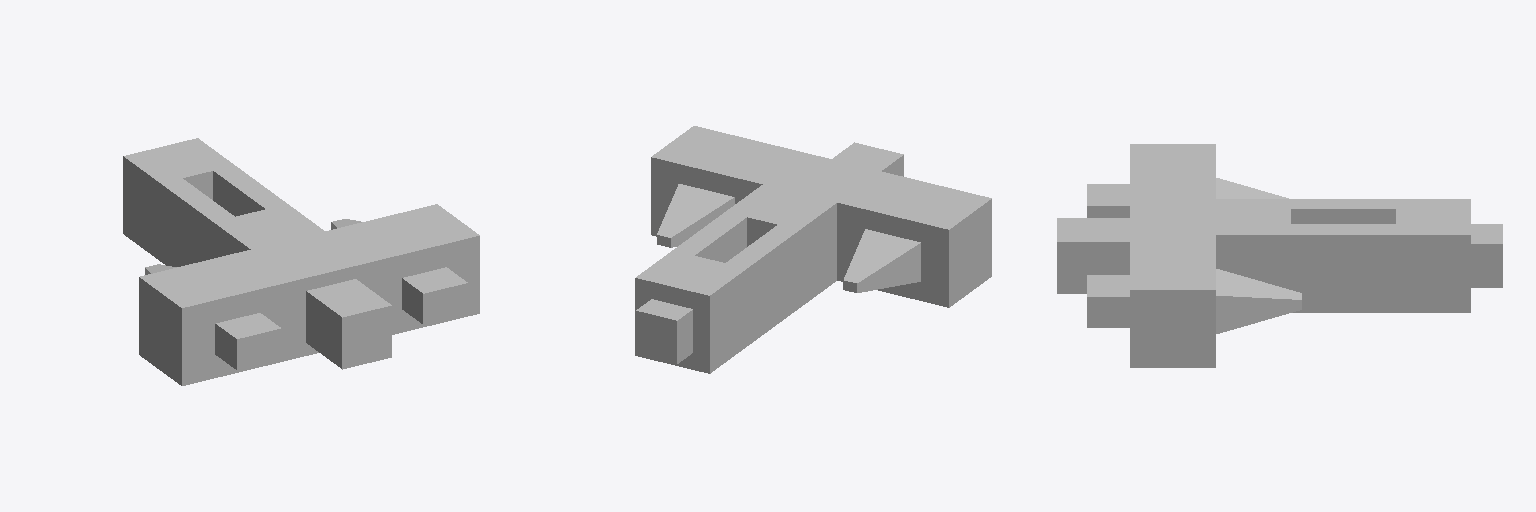
Rendered from Ship3.obj.
The picture shows the model from 3 angles: view 1: azimuth 30°, elevation 25°; view 2: azimuth 150°, elevation 25°; view 3: azimuth 270°, elevation 25°; orthographic projection.
Visible parts, largest first — view 1: Cube; view 2: Cube; view 3: Cube.
Part boxes in pixels (x1,y1,x2,y2): Cube: (123,138,479,385); Cube: (635,126,991,373); Cube: (1057,144,1502,367).
Size of the model in its own units: 200 by 50 by 259.